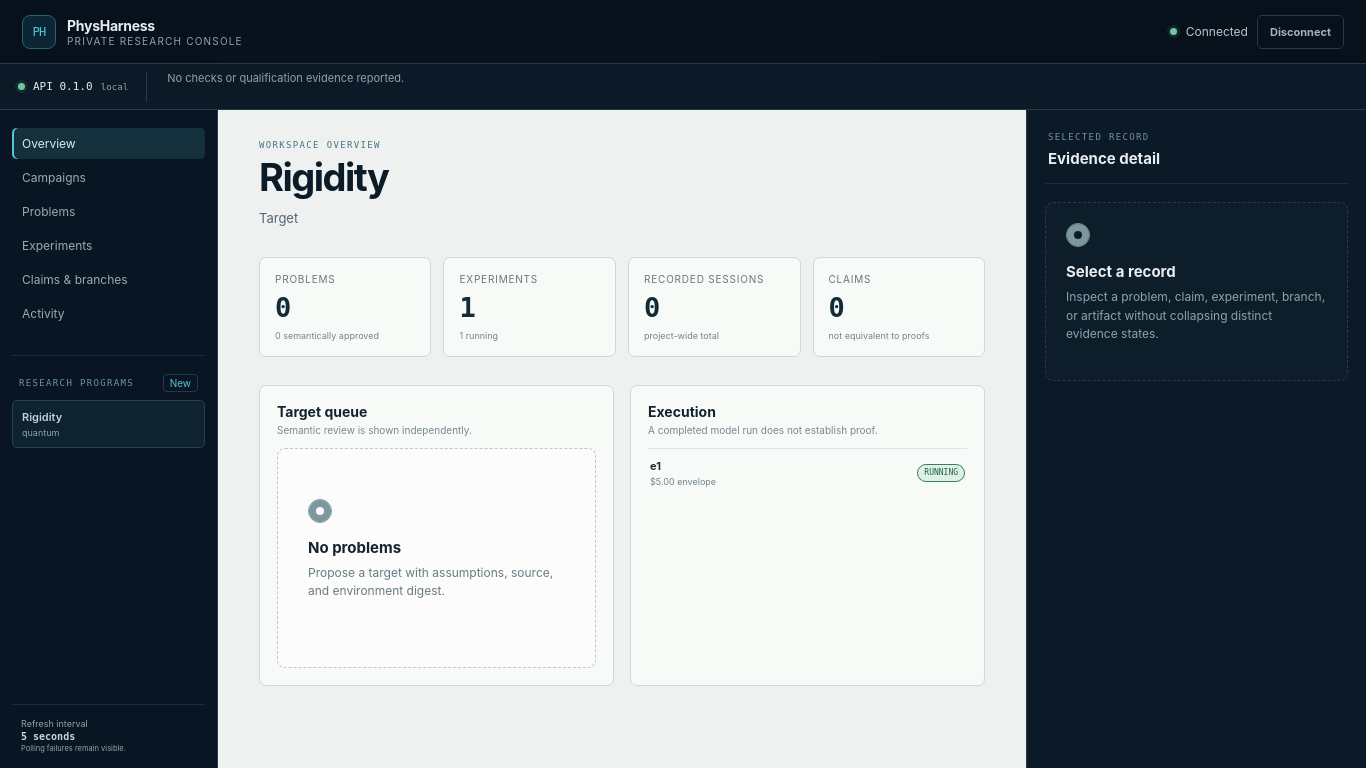
it: does not reopen the previous experiment when its mutation finishes after reselection
Click the button with aria-label "open experiment rigidity" at (695, 481), box [648,448,967,497]
(page scrolled)
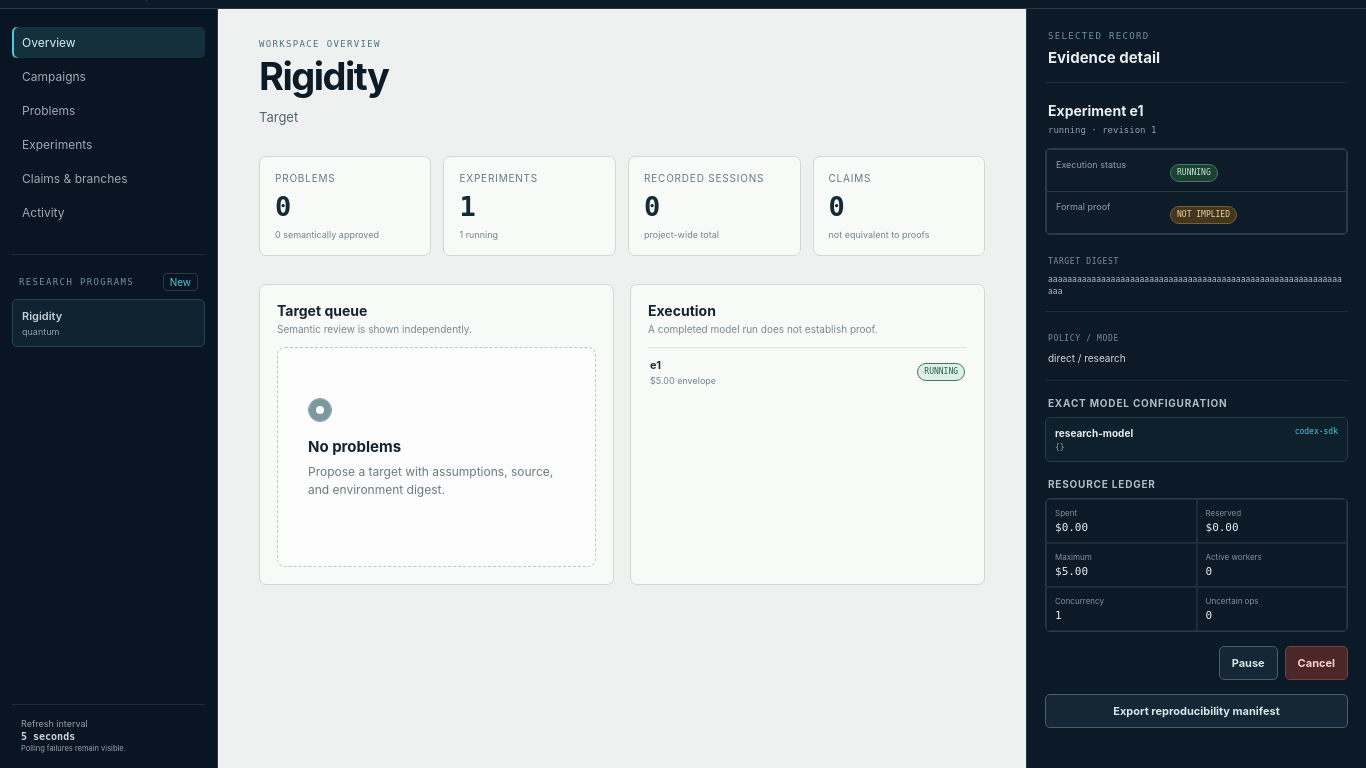
Click the button with aria-label "cancel experiment" at (1316, 663), box [1285,646,1348,680]
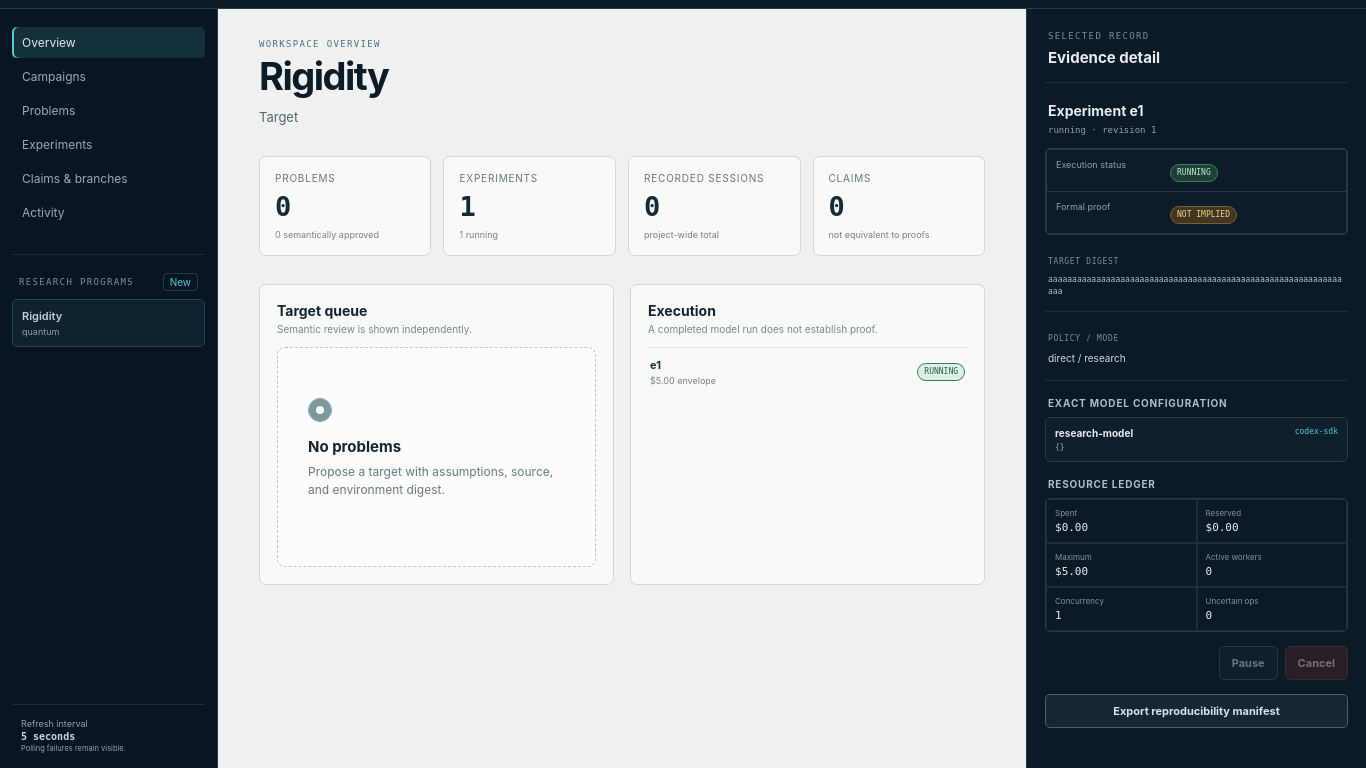
Click the button "Claims & branches" at (108, 178), box [12,163,205,194]
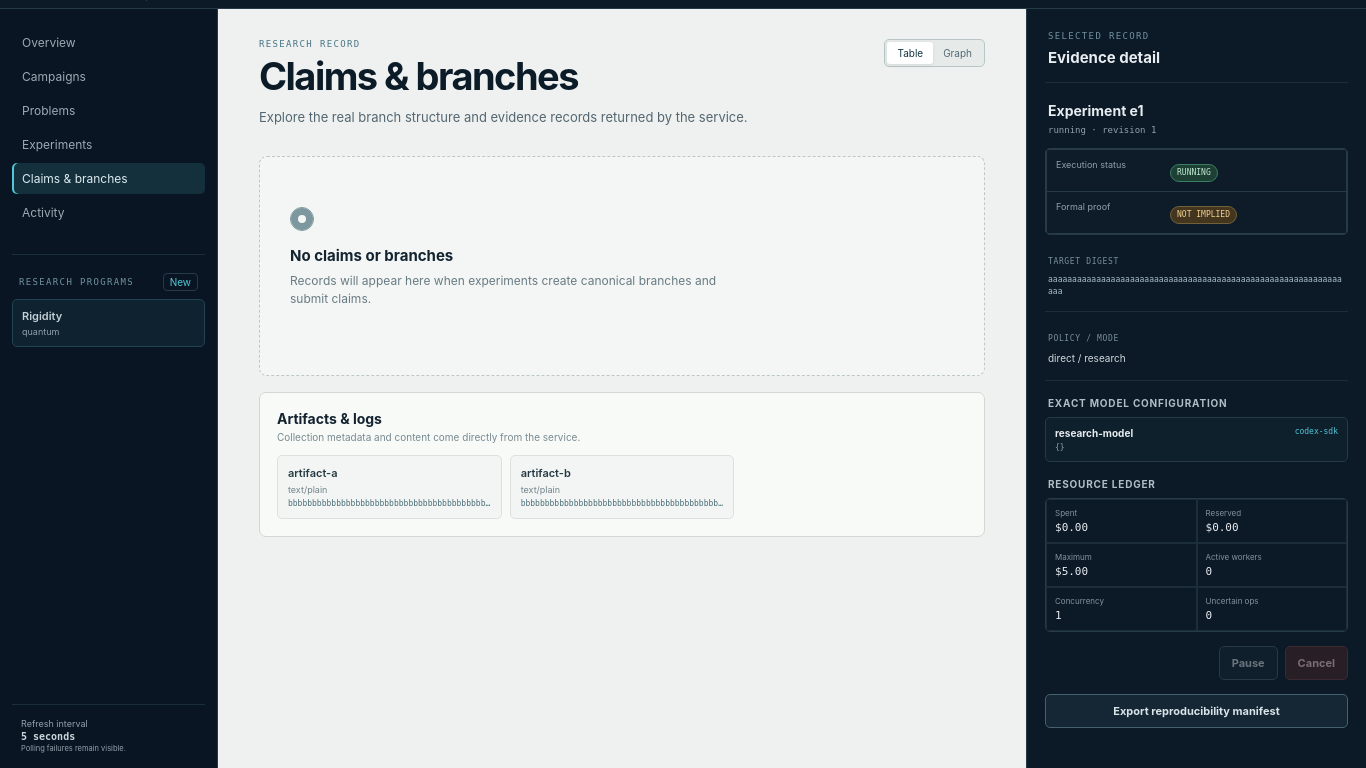
Click the button "artifact-b" at (622, 487), box [510,455,734,519]
(page scrolled)
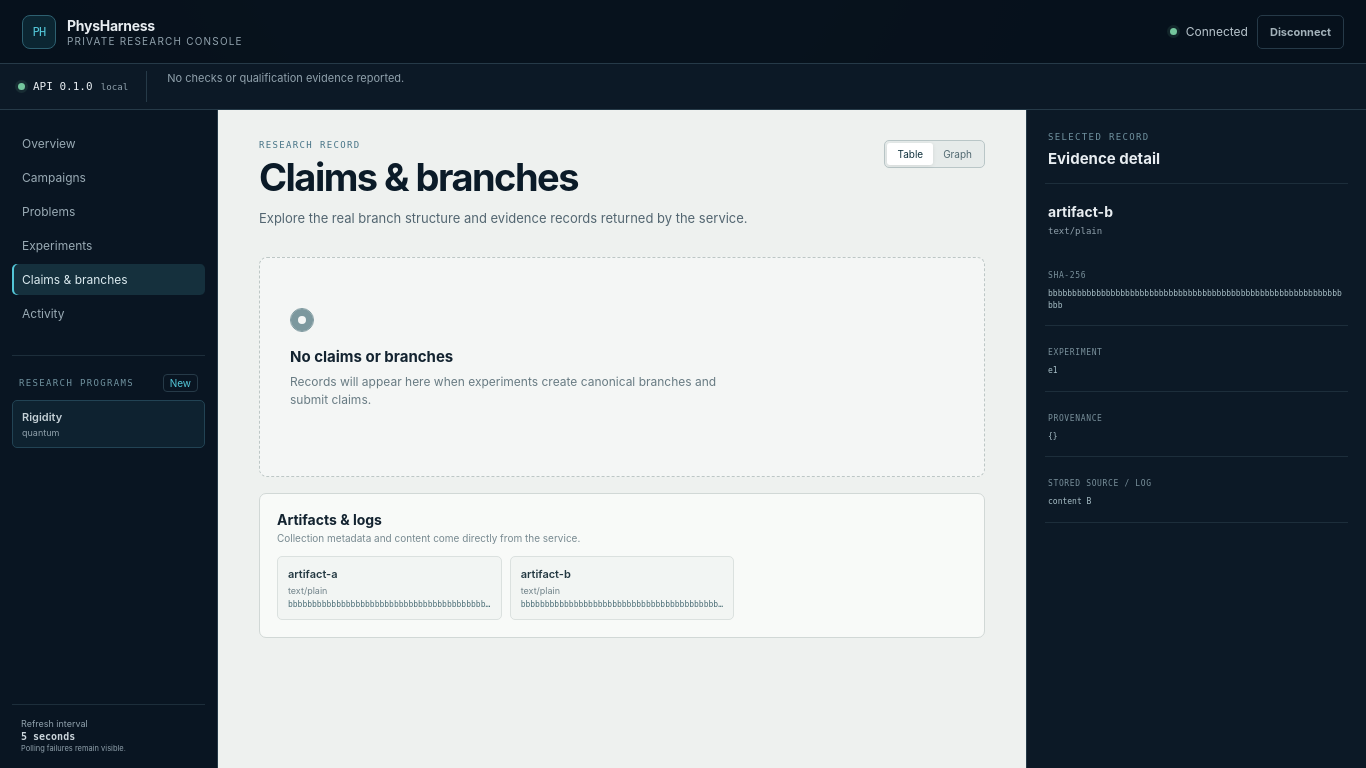
Expected: the text "content B" is shown, [1048,497,1091,506]
